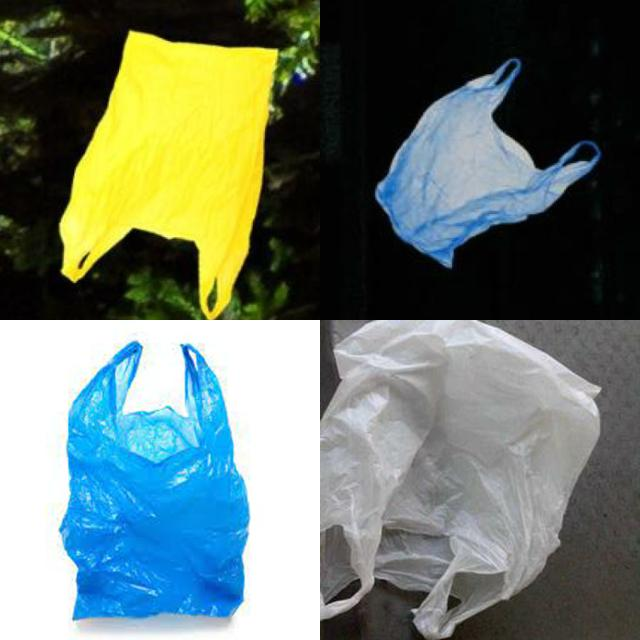Single-layer Plastic: (321, 321, 600, 640), (60, 31, 278, 319), (60, 342, 249, 619), (376, 59, 601, 268)
